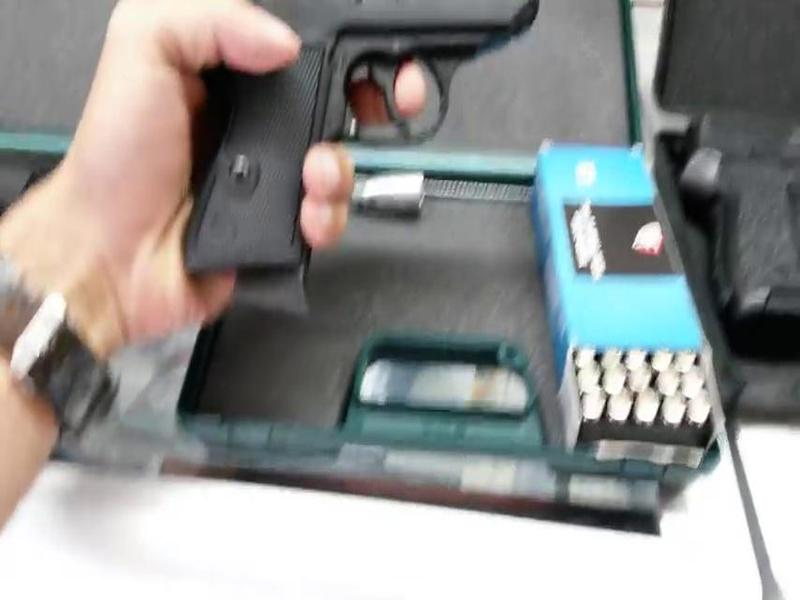Pistola: (163, 1, 559, 289)
